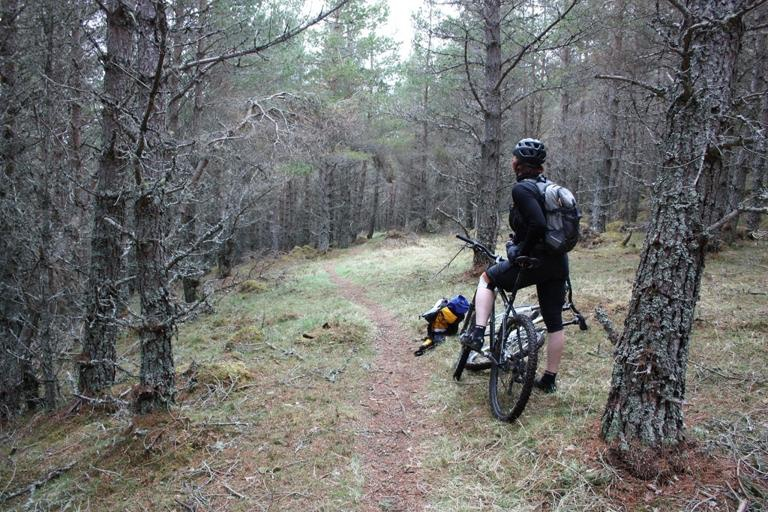non-vehicle: (450, 230, 540, 427), (460, 270, 588, 374)
